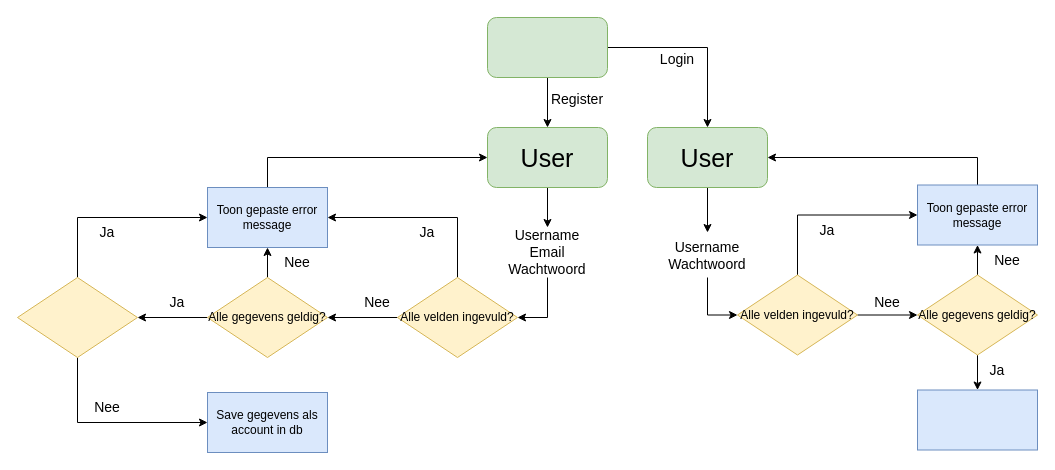
The diagram is 1055 pixels wide and 470 high, and some of its shapes have lost their labels. The shapes that lost their labels are listed below. From the top down, each one's centre as x and y in pixels, then its label:
the point at 547,47: Start
the point at 77,317: Email of Username al in gebruik?
the point at 977,419: Set cookie/session als account in db
